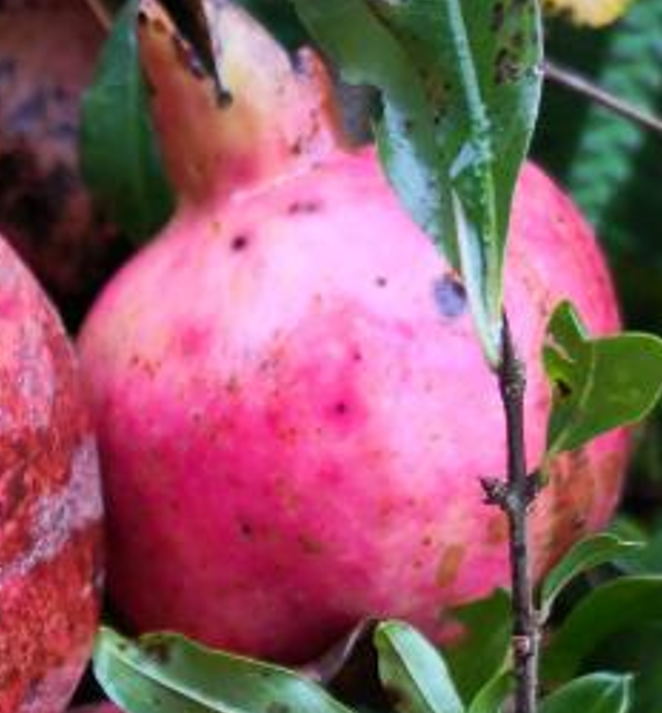pomegranate_B: (73, 1, 641, 666)
